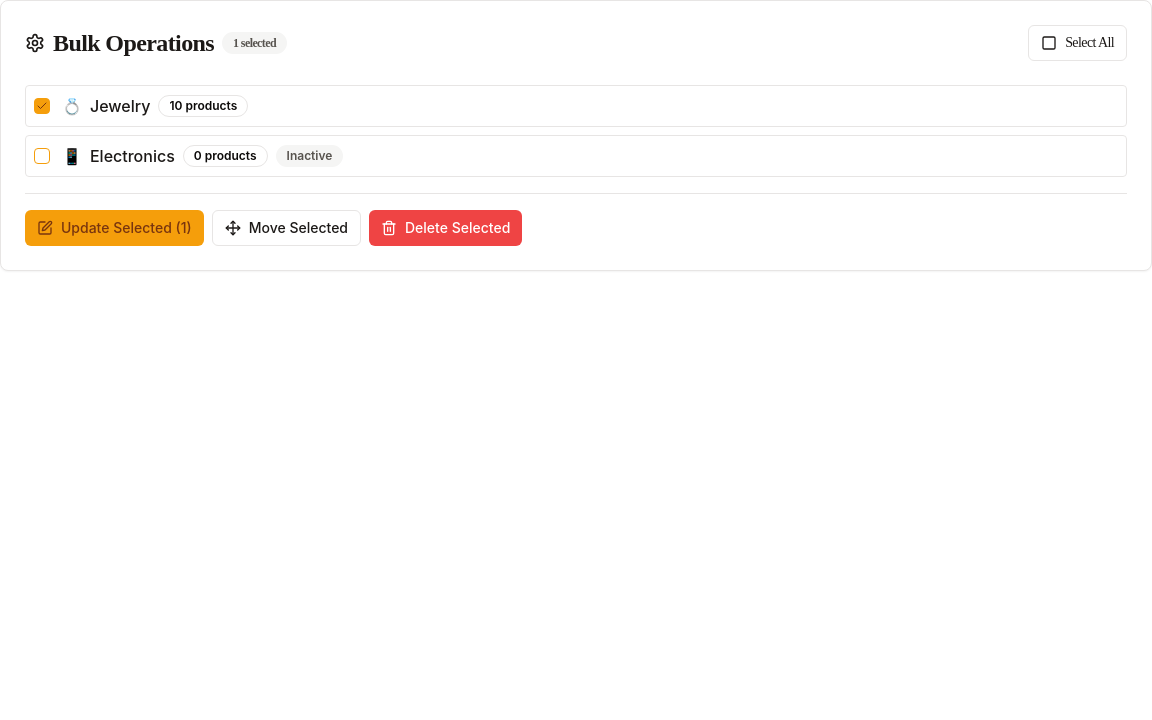
Test: CategoryBulkOperations › shows warning for categories with products
Note: Open delete dialog
Click the button "Delete Selected" at (446, 228), box [369, 210, 522, 246]
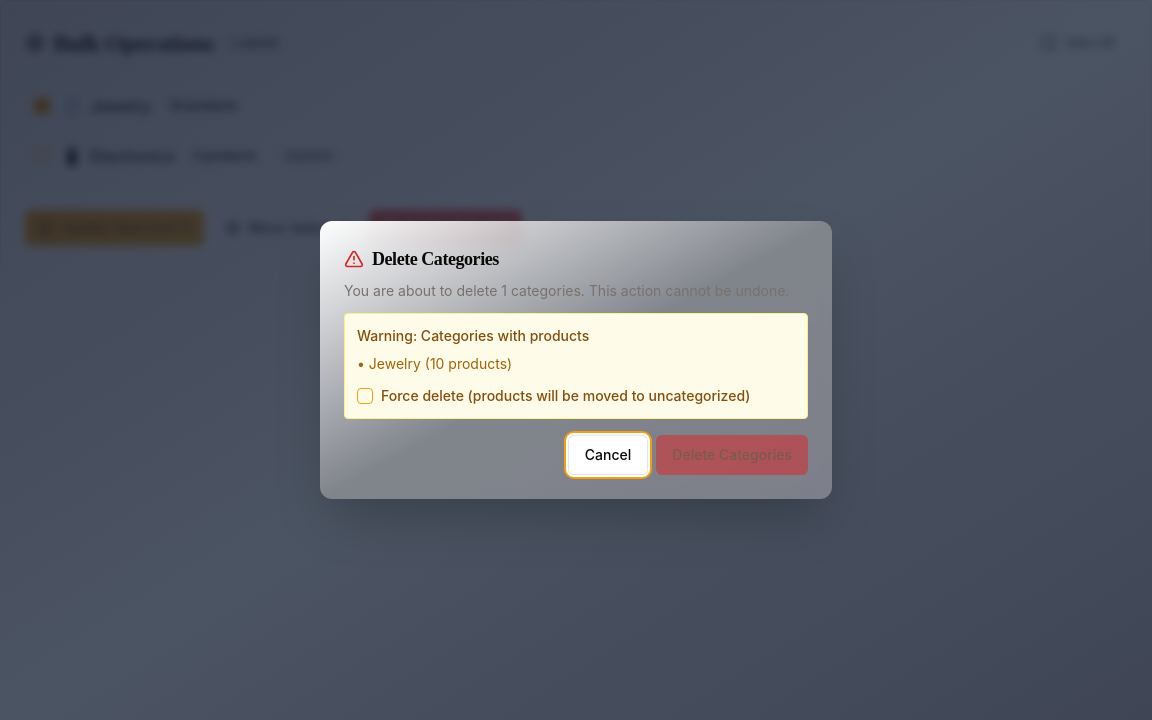
Expected: the text "Warning: Categories with products" is shown, [357, 327, 589, 344]
Expected: the text "• Jewelry (10 products)" is shown, [357, 355, 512, 372]
Expected: the text "Force delete (products will be moved to uncategorized)" is shown, [381, 386, 750, 406]
